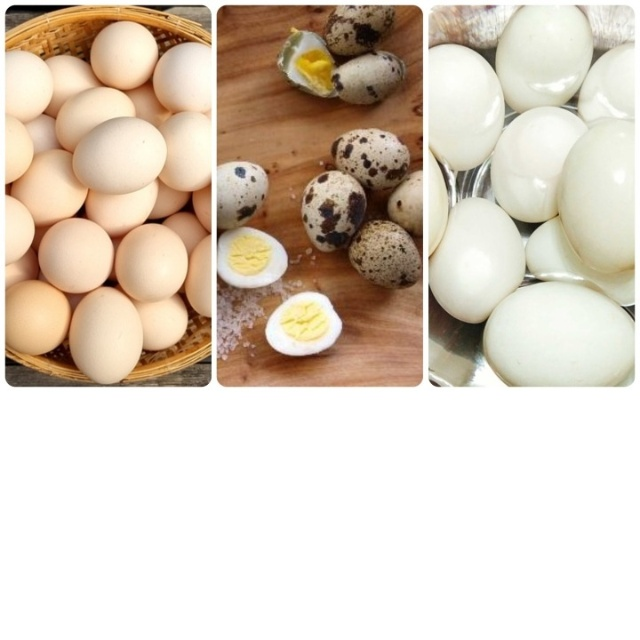trung_ga: (66, 283, 145, 387), (68, 115, 168, 197), (9, 144, 91, 229), (112, 220, 189, 302), (35, 217, 115, 294), (5, 277, 70, 356), (87, 19, 158, 90), (149, 39, 215, 114), (154, 110, 213, 193), (7, 47, 54, 124)
